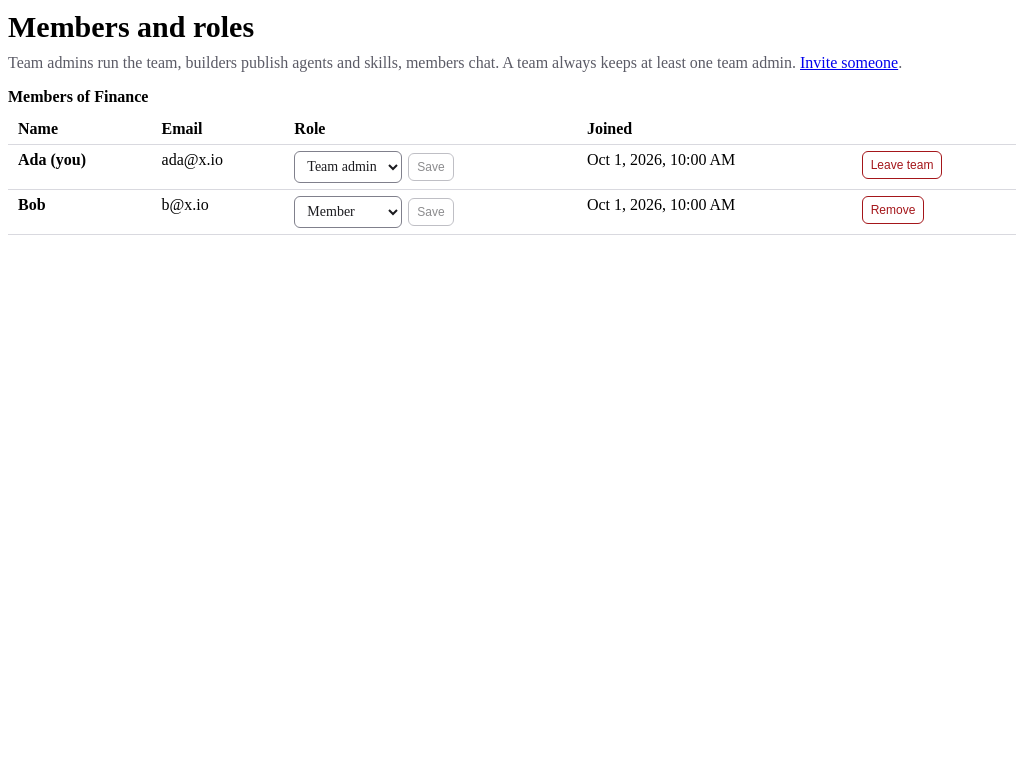
Scenario: Members and roles › removes a member after confirmation
Click the button named "Remove Bob" at (893, 210), box [862,196,924,224]
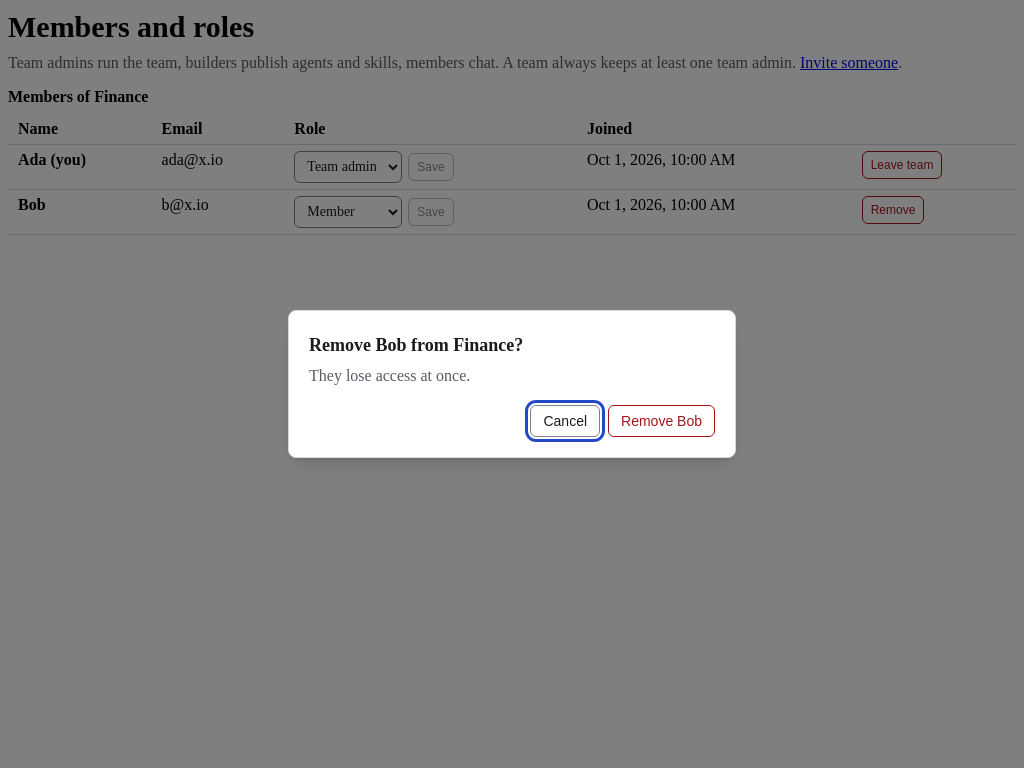
Click the button "Remove Bob" at (662, 421), box [608,405,715,437]
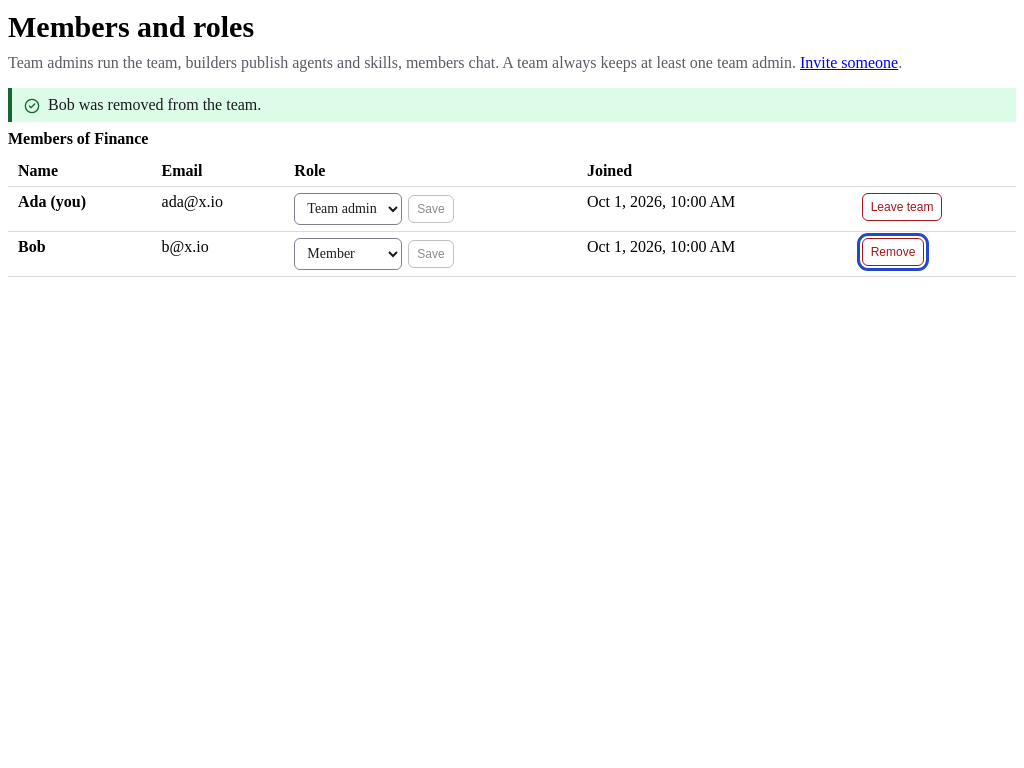
Check: the text "Bob was removed from the team." is shown, box [48,96,261,112]
